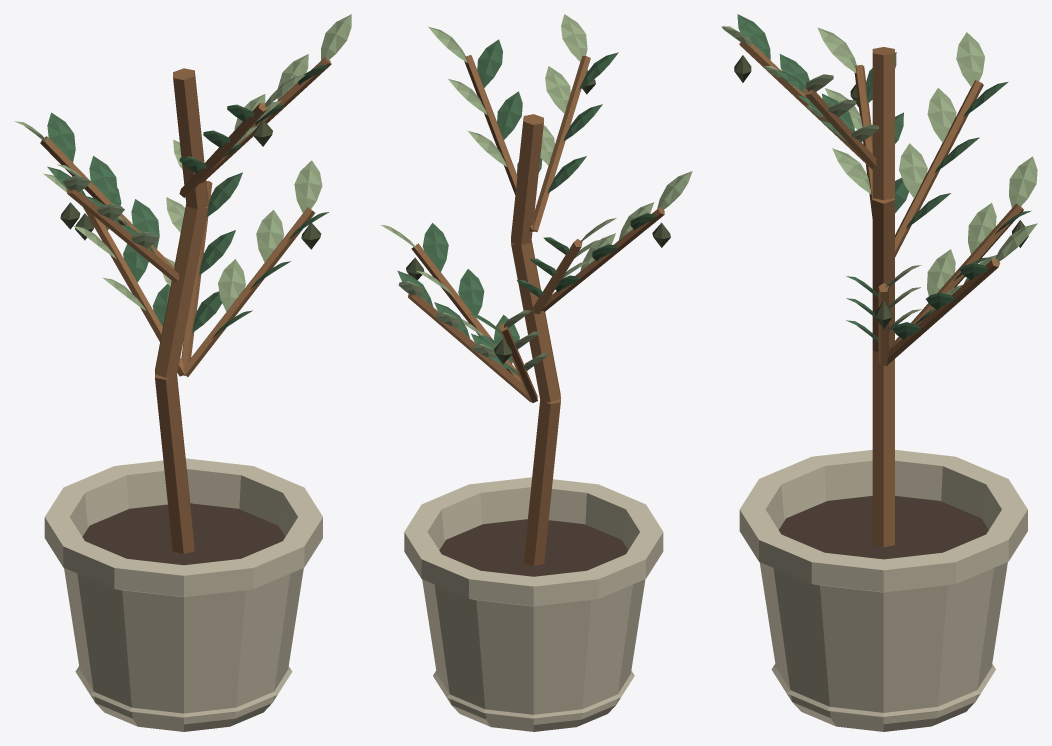
Rendered from decor_pot_olive.glb.
3 renders of one model, left to right at view 1: azimuth 30°, elevation 25°; view 2: azimuth 150°, elevation 25°; view 3: azimuth 270°, elevation 25°, orthographic. The views are drawn at different scales.
Visible parts, largest first — view 1: geometry; view 2: geometry; view 3: geometry.
Boxes of the visible parts, x1,y1,x2,y2 form: geometry: (15,14,351,731); geometry: (381,14,692,731); geometry: (721,14,1037,731).
Size of the model in its own units: 0.6337 by 1.4 by 0.5825.
